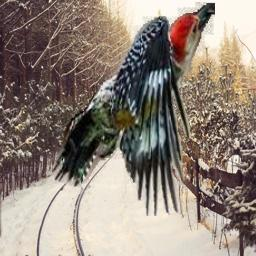Woodpecker: (53, 2, 215, 216)
